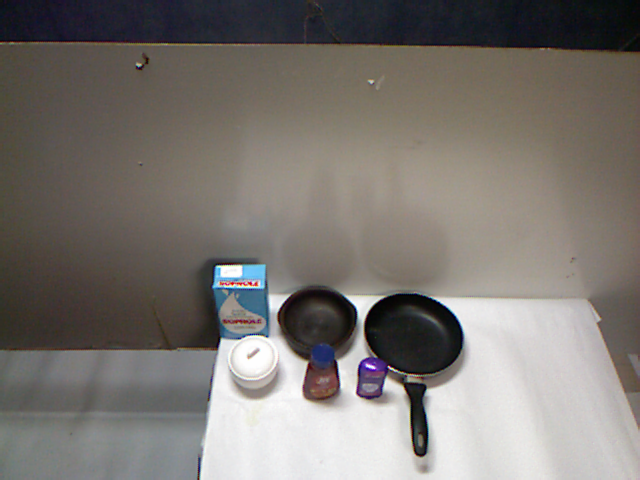aerosol: (271, 278, 318, 376)
cera: (311, 223, 373, 343)
harina: (233, 254, 306, 343)
pepino: (209, 332, 322, 430)
platano: (308, 336, 398, 433)
platoperro: (347, 315, 476, 425)
